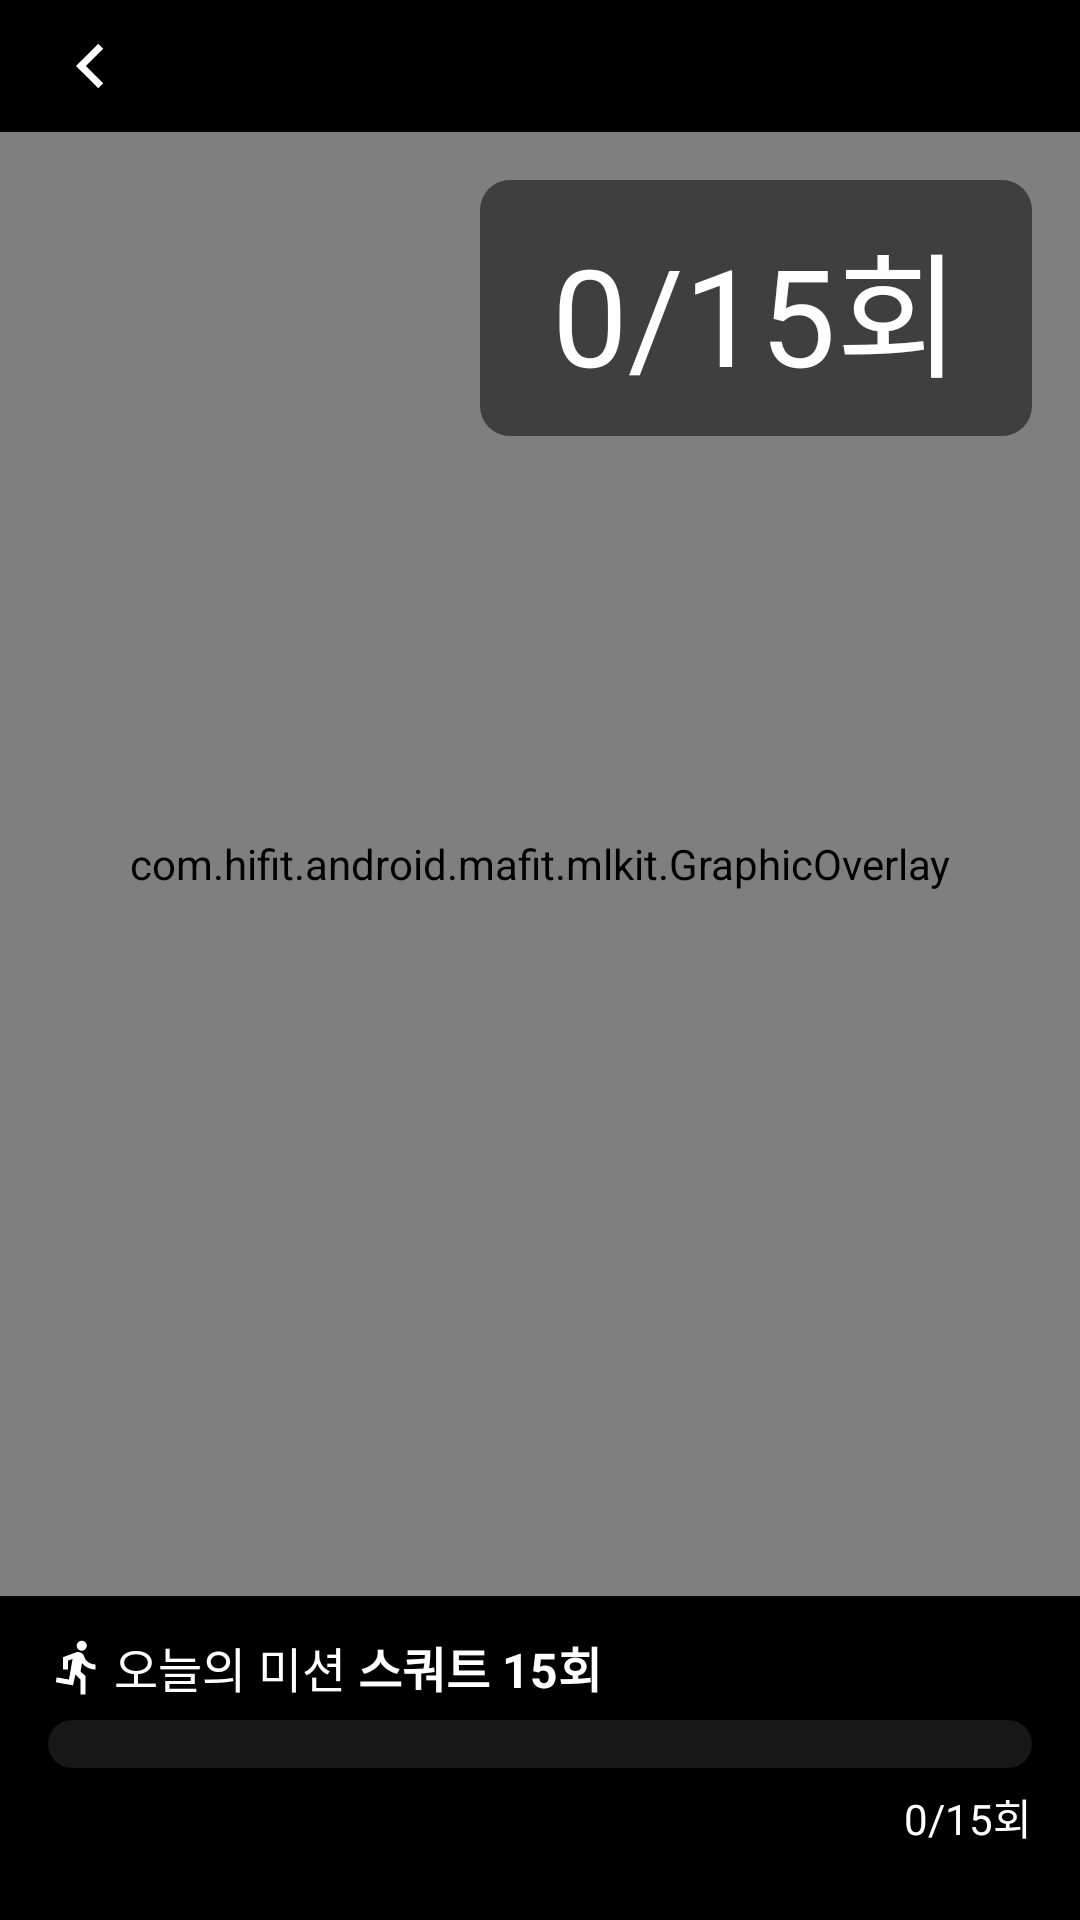

Named icons in this screenshot (1080 x 1920) and their centers, (x,y):
arrow: (89,66)
